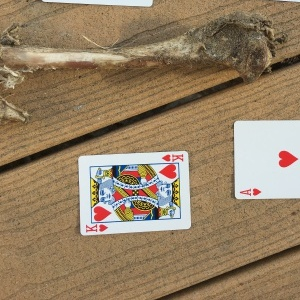card: (77, 150, 192, 235)
